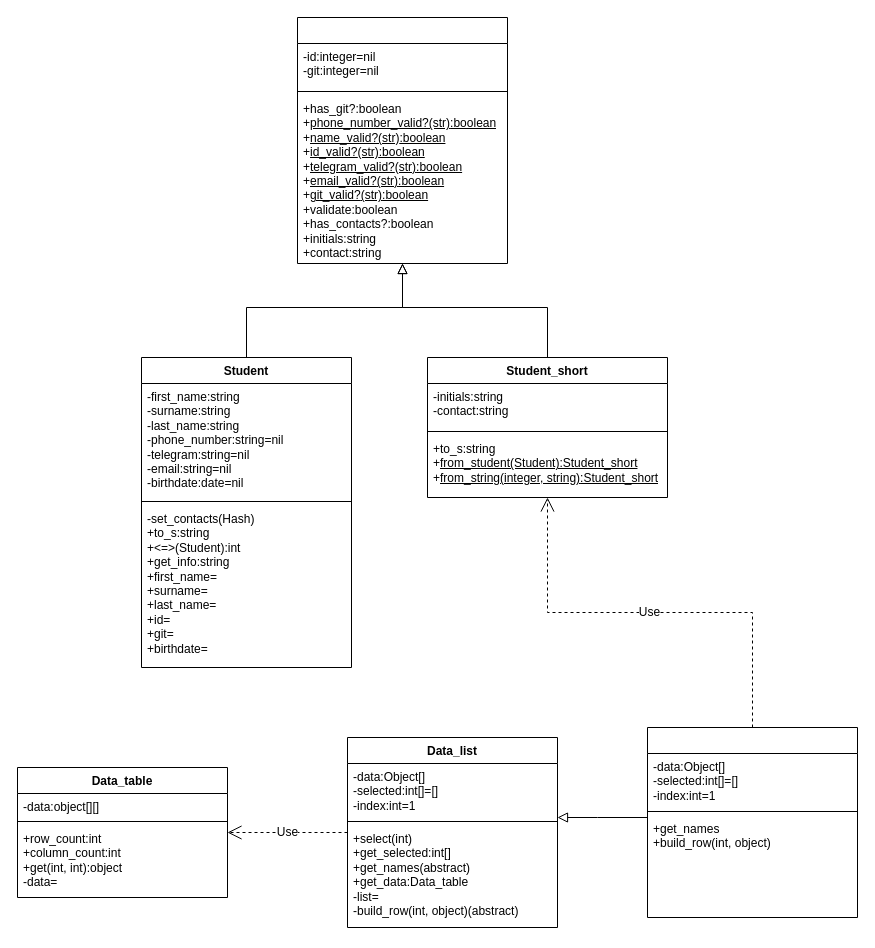
The diagram is 875 pixels wide and 948 high, and some of its shapes have lost their labels. Each missing label, with the box of its shape:
Data_list_student_short: (646, 726, 858, 918)
Person: (296, 16, 508, 264)
